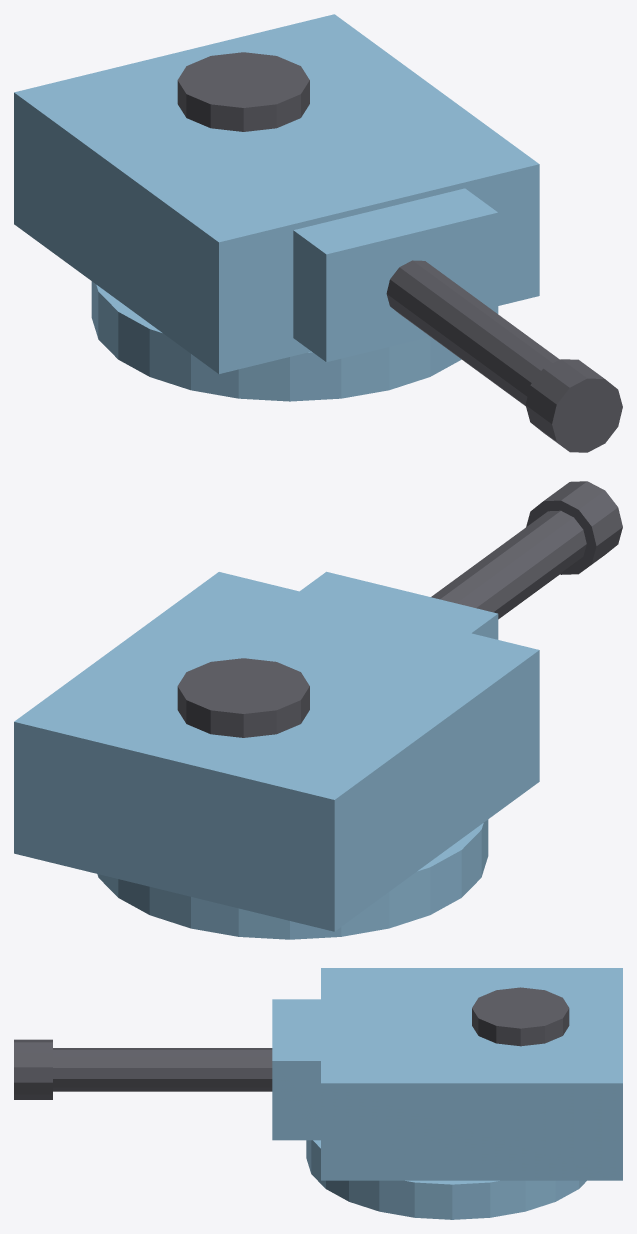
File: CannonTurret.fbx
3 views of the same model, one above another, from view 1: azimuth 30°, elevation 25°; view 2: azimuth 150°, elevation 25°; view 3: azimuth 270°, elevation 25° (orthographic). The views are drawn at different scales.
Visible parts, largest first — view 1: Cannon_Body, Cannon_Barrel; view 2: Cannon_Body, Cannon_Barrel; view 3: Cannon_Body, Cannon_Barrel.
Part boxes in pixels (bbox=[...]): Cannon_Body: bbox=[14, 14, 539, 401]; Cannon_Barrel: bbox=[386, 260, 622, 452]; Cannon_Body: bbox=[14, 571, 539, 939]; Cannon_Barrel: bbox=[431, 481, 622, 619]; Cannon_Body: bbox=[272, 968, 622, 1219]; Cannon_Barrel: bbox=[14, 1039, 272, 1099].
Bounding box in the file's own units: 0.6 × 1.25 × 0.34.
